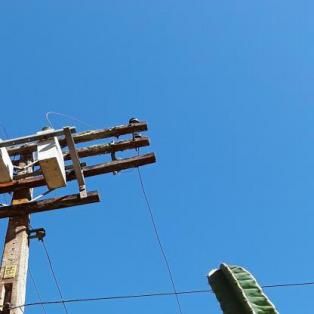Poste: (0, 138, 37, 313)
